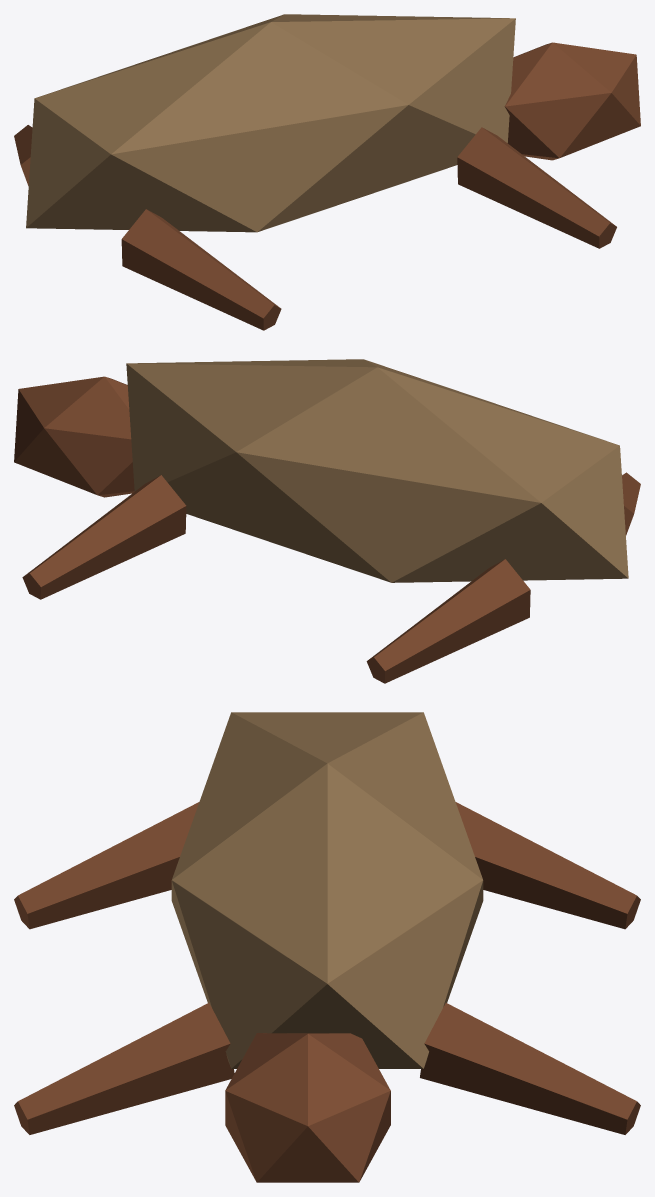
Rendered from prop.farm-carcass.lod1.glb.
3 views of the same model, one above another, from view 1: azimuth 30°, elevation 25°; view 2: azimuth 150°, elevation 25°; view 3: azimuth 270°, elevation 25° (orthographic). The views are drawn at different scales.
Parts seen in each view (by area): view 1: body; view 2: body; view 3: body.
Boxes of the visible parts, left/top/right/bottom form: body: left=14, top=14, right=640, bottom=330; body: left=14, top=359, right=640, bottom=683; body: left=14, top=712, right=640, bottom=1182.
Size of the model in its own units: 2.25 by 0.72 by 1.61.
